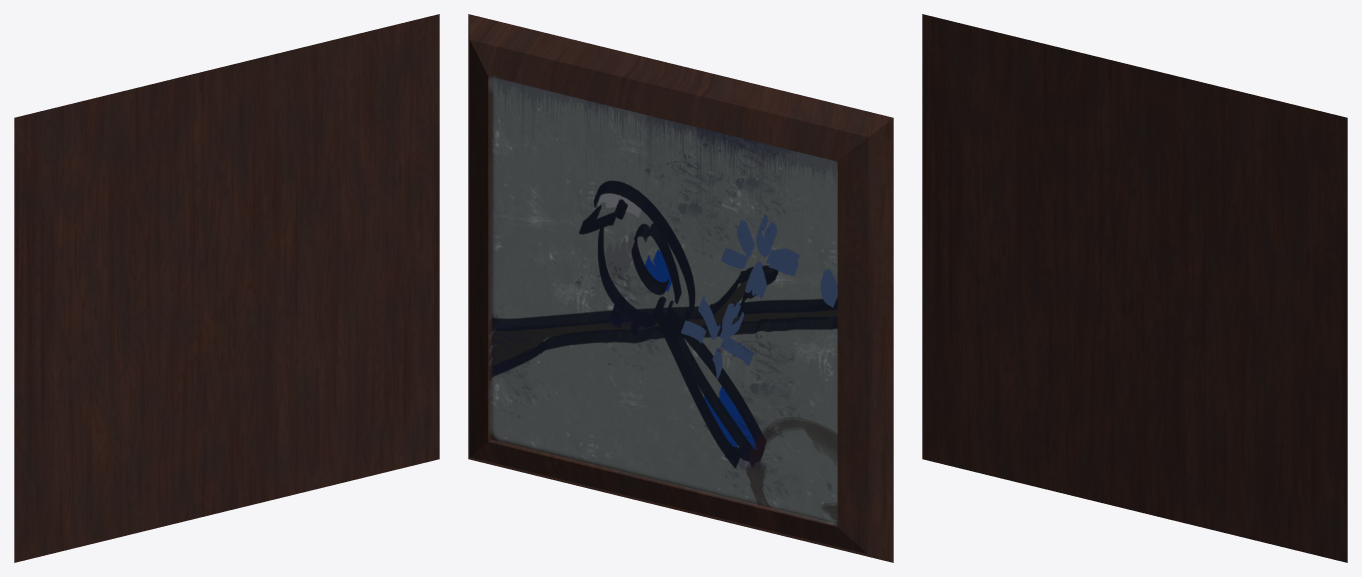
File: picture1_uv.fbx
3 renders of one model, left to right at view 1: azimuth 30°, elevation 25°; view 2: azimuth 150°, elevation 25°; view 3: azimuth 330°, elevation 25°, orthographic.
Visible parts, largest first — view 1: pCube1; view 2: pCube1; view 3: pCube1.
Part boxes in pixels (x1=…): pCube1: x1=14, y1=14, x2=439, y2=562; pCube1: x1=468, y1=14, x2=893, y2=562; pCube1: x1=922, y1=14, x2=1347, y2=562.
Bounding box in the file's own units: 0.5148 × 0.5148 × 0.038.
